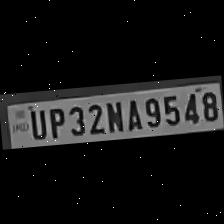2: (84, 98, 106, 134)
3: (64, 100, 86, 136)
4: (179, 88, 201, 124)
5: (160, 90, 180, 126)
8: (196, 86, 218, 121)
9: (139, 92, 161, 129)
A: (122, 94, 142, 130)
N: (103, 96, 125, 132)
P: (46, 104, 68, 138)
U: (26, 105, 48, 140)
